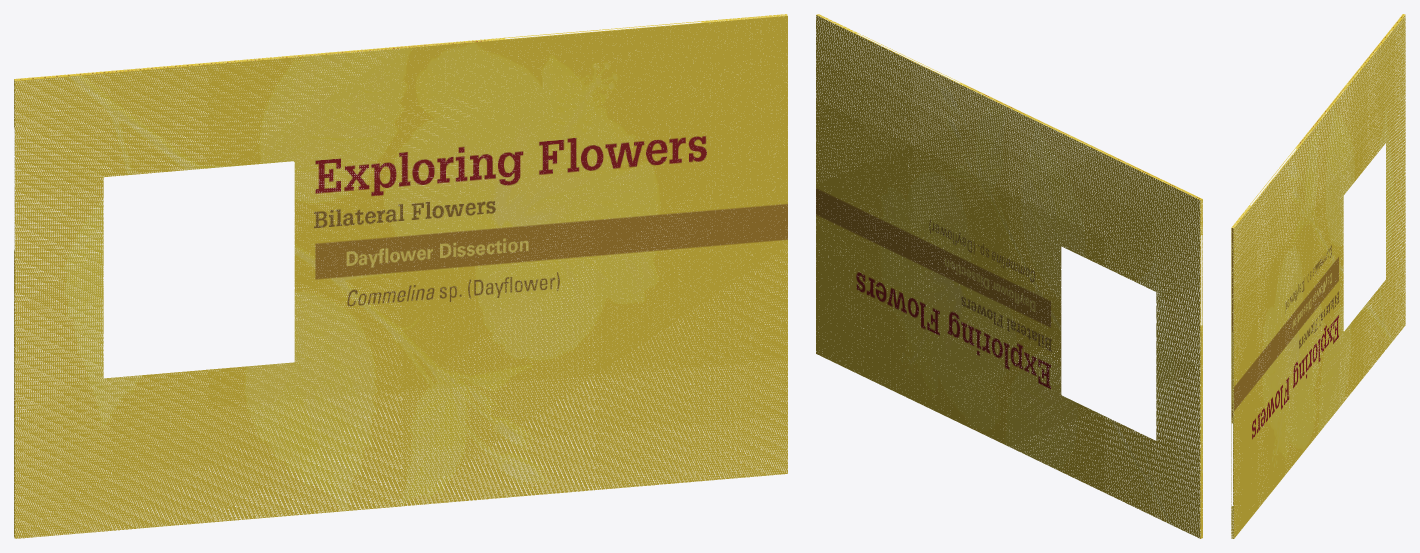
File: DayflowerSplashModel_exterior.gltf
3 renders of one model, left to right at view 1: azimuth 30°, elevation 25°; view 2: azimuth 150°, elevation 25°; view 3: azimuth 270°, elevation 25°, orthographic. The views are drawn at different scales.
Parts seen in each view (by area): view 1: splashscreenglb; view 2: splashscreenglb; view 3: splashscreenglb.
Part boxes in pixels (x1,y1,x2,y2): splashscreenglb: (14, 14, 787, 538); splashscreenglb: (816, 14, 1202, 538); splashscreenglb: (1231, 14, 1405, 538).
Bounding box in the file's own units: 1.48 × 1 × 0.5094.
1 material, 1 textured.
